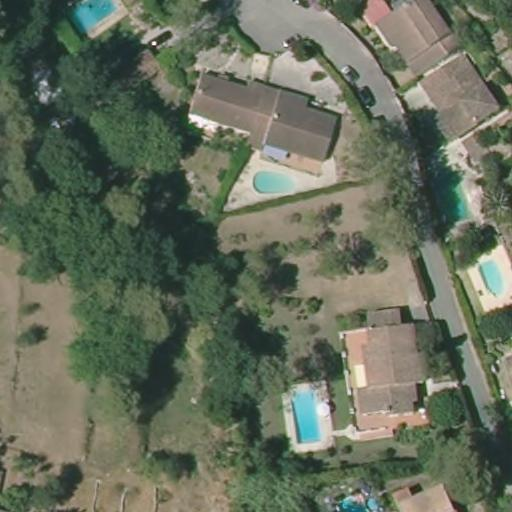pool: (428, 156, 475, 228), (283, 380, 328, 451), (61, 0, 126, 38), (247, 160, 305, 199), (473, 254, 509, 299)
